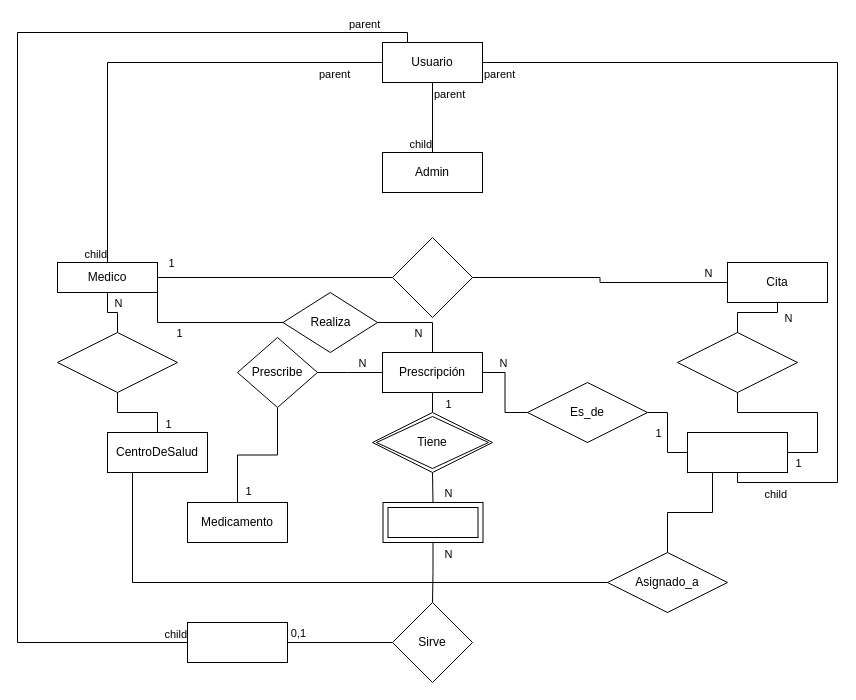
This 856x700 diagram has some shape labels left out. Each missing label, with the centre of its shape:
Atiende: [432,277]
Están: [117,362]
Farmacia: [237,642]
Paciente: [737,452]
Receta: [432,522]
Solicitada: [737,362]
